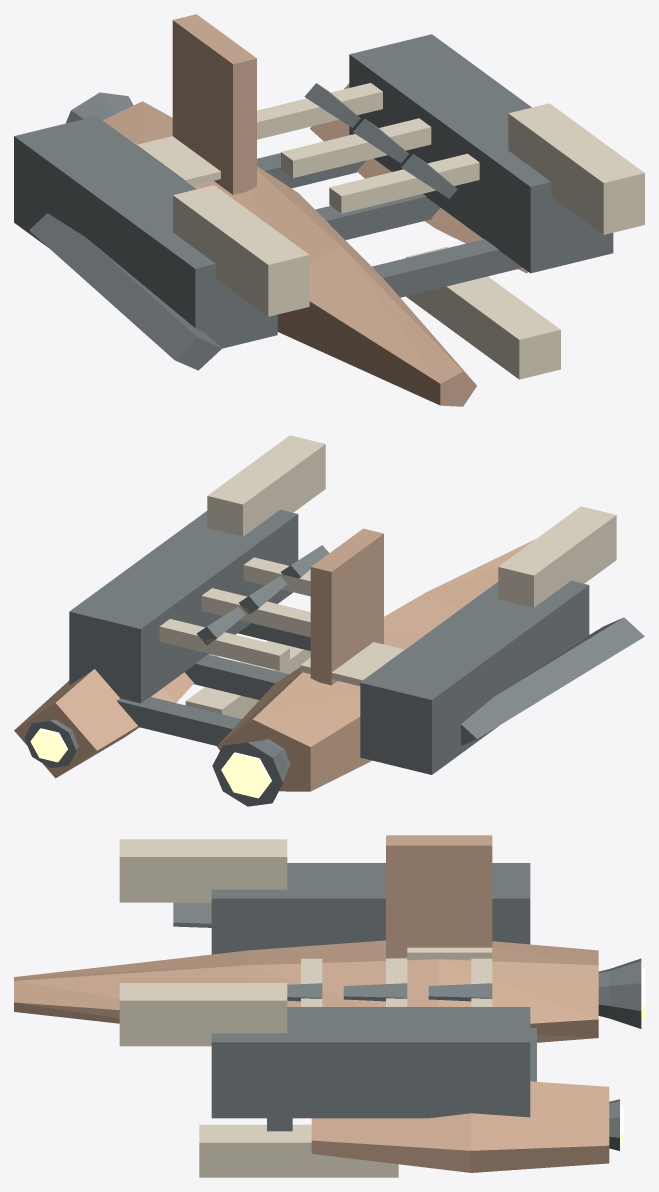
3 renders of one model, top to bottom at view 1: azimuth 30°, elevation 25°; view 2: azimuth 150°, elevation 25°; view 3: azimuth 270°, elevation 25°, orthographic. The views are drawn at different scales.
Bounding box in the file's own units: 11.89 × 6.51 × 15.06.
